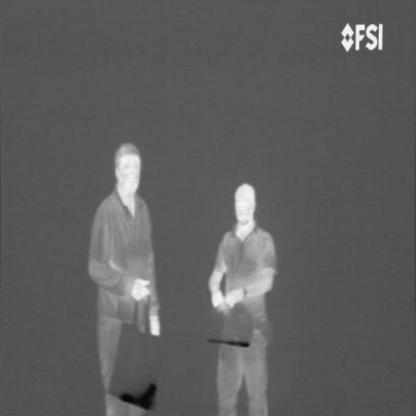weapon: (117, 380, 158, 411)
